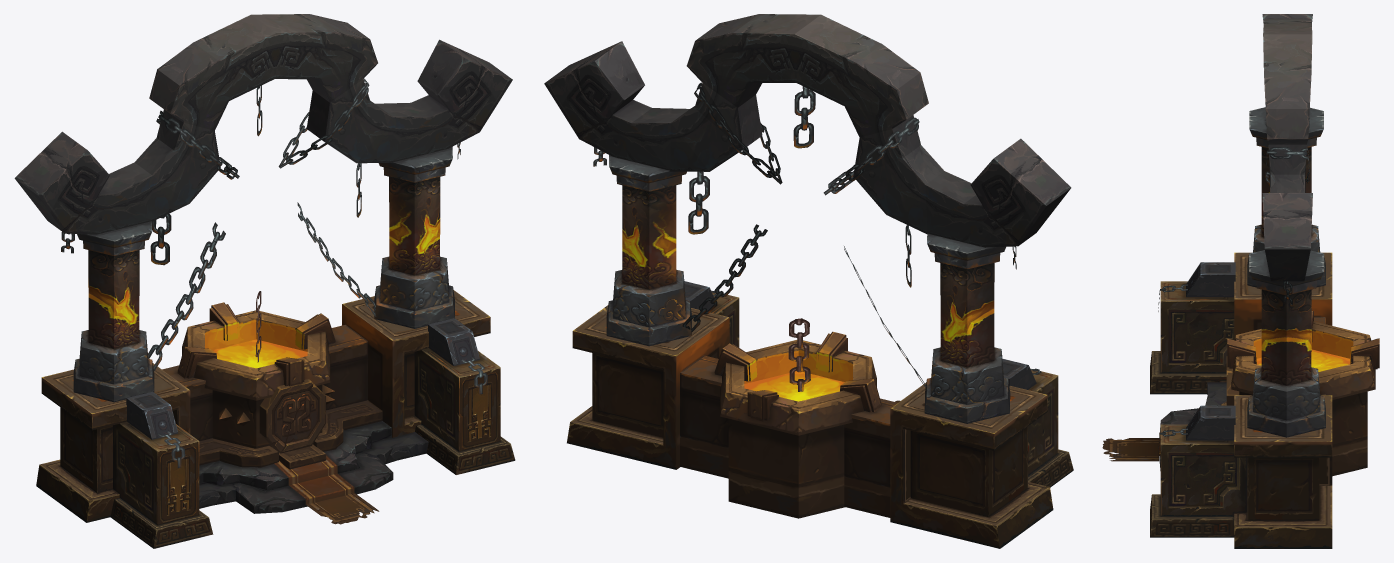
Rendered from fb_suoyt_jz_16.FBX.
3 views of the same model, side by side, from view 1: azimuth 30°, elevation 25°; view 2: azimuth 150°, elevation 25°; view 3: azimuth 270°, elevation 25° (orthographic). The views are drawn at different scales.
Parts seen in each view (by area): view 1: fb_suoy_jz_16_a, fb_suoy_jz_16_b, fb_suoy_jz_16_c; view 2: fb_suoy_jz_16_a, fb_suoy_jz_16_b, fb_suoy_jz_16_c; view 3: fb_suoy_jz_16_b, fb_suoy_jz_16_a, fb_suoy_jz_16_c.
Part boxes in pixels (bbox=[...]): fb_suoy_jz_16_a: bbox=[14, 14, 512, 513]; fb_suoy_jz_16_b: bbox=[36, 290, 515, 548]; fb_suoy_jz_16_c: bbox=[61, 78, 487, 524]; fb_suoy_jz_16_a: bbox=[544, 14, 1071, 423]; fb_suoy_jz_16_b: bbox=[567, 292, 1073, 548]; fb_suoy_jz_16_c: bbox=[593, 82, 1041, 402]; fb_suoy_jz_16_b: bbox=[1150, 252, 1379, 548]; fb_suoy_jz_16_a: bbox=[1159, 14, 1325, 470]; fb_suoy_jz_16_c: bbox=[1102, 118, 1309, 461].
Bounding box in the file's own units: 3314 × 2862 × 1725.
